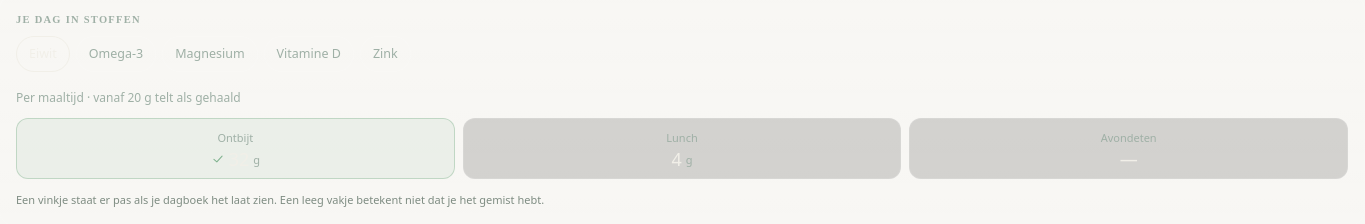
Test: AgendaDagKaart › wisselt naar een andere stof en meet de keuze
Click the tab "Magnesium": (210, 54) [162,36,258,72]
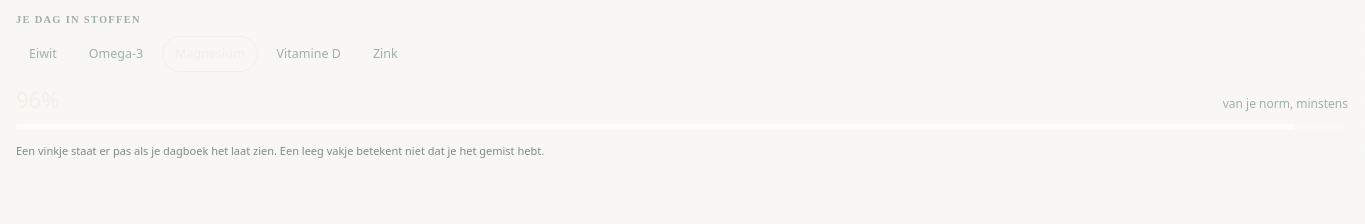
Now the text "van je norm, minstens" is shown, box [1223,94,1348,114]
